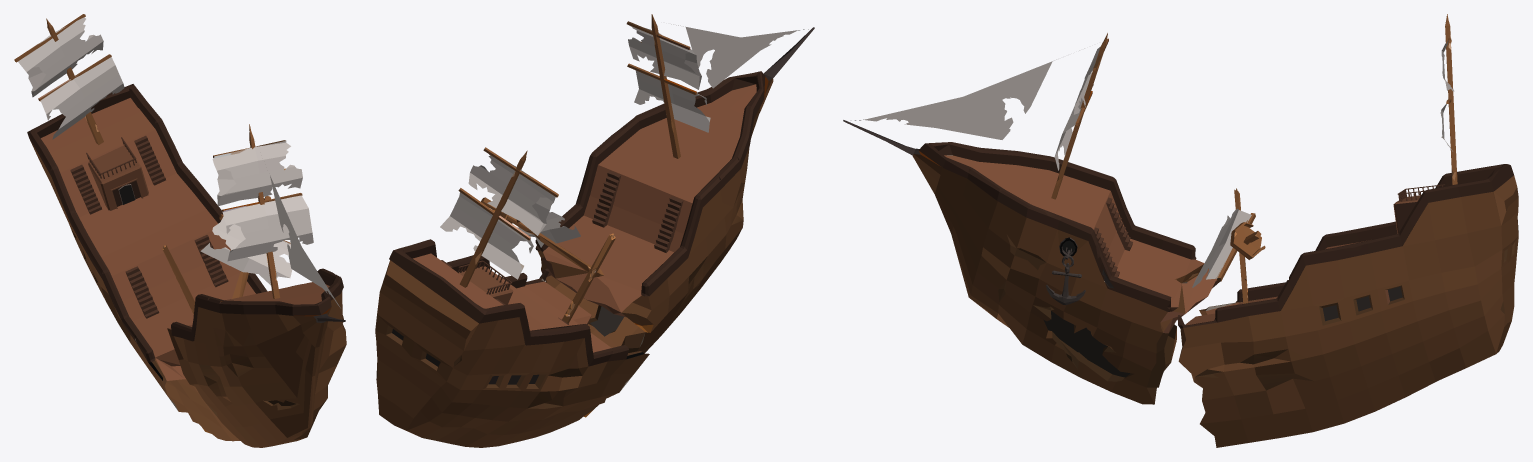
File: Low Poly ShipWreck.obj
The picture shows the model from 3 angles, left to right: view 1: azimuth 30°, elevation 25°; view 2: azimuth 150°, elevation 25°; view 3: azimuth 270°, elevation 25°; orthographic projection. The views are drawn at different scales.
Visible parts, largest first — view 1: Ship_Cube.016, Sails_Cube.015; view 2: Ship_Cube.016, Sails_Cube.015; view 3: Ship_Cube.016, Sails_Cube.015, Anchor_Cube.012.
Boxes of the visible parts, <box> form: Ship_Cube.016: <box>14,14,346,447</box>; Sails_Cube.015: <box>18,17,340,308</box>; Ship_Cube.016: <box>375,14,814,447</box>; Sails_Cube.015: <box>440,24,797,279</box>; Ship_Cube.016: <box>843,14,1518,447</box>; Sails_Cube.015: <box>864,40,1454,287</box>; Anchor_Cube.012: <box>1046,247,1085,304</box>.
Size of the model in its own units: 107 by 218 by 344.
